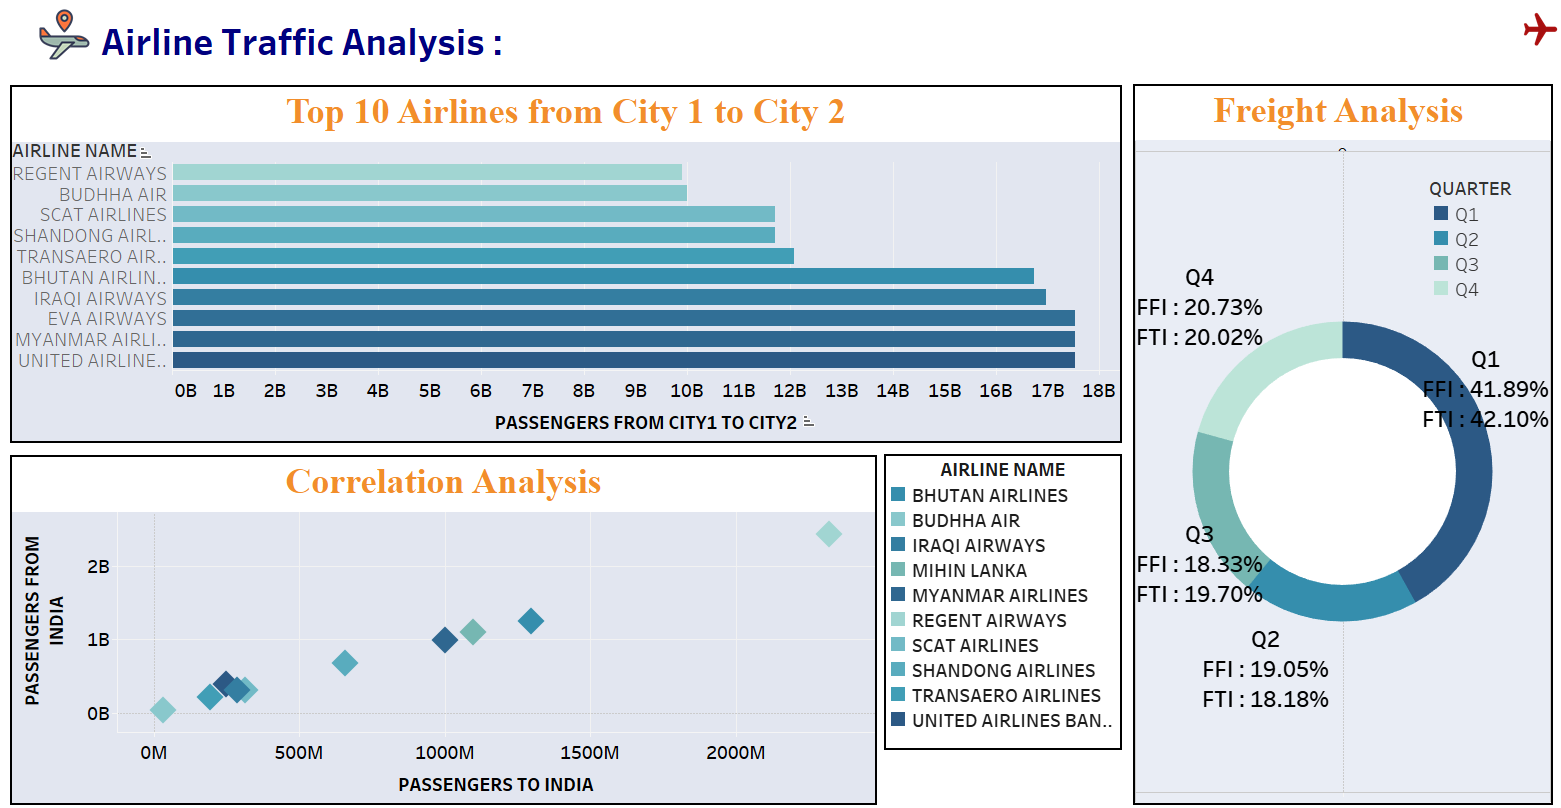

Layout of this report page (visuals, bound fields, positions):
{"tool":"tableau","page":{"name":"Airline Traffic Analysis Dashboard 1","canvas":[1000,1000],"units":"permille","ordinal":0},"visuals":[{"type":"dashboard-object","box":[945.8,8.6,36.2,68.5]},{"type":"image","param":"C:/Users/Shruti/Downloads/airplane.png","box":[27.4,14.7,54.9,68.5]},{"type":"text","box":[65.5,26.9,256.2,59.9]},{"type":"worksheet","title":"Freight Analysis :","mark":"Pie","cols":["Calculation_753227053780594689","Calculation_753227053780688899"],"box":[711.4,110,261.9,881.4]},{"type":"worksheet","title":"Top 10 Airline from City1 to City2 :","mark":"Automatic","rows":["AIRLINE NAME"],"cols":["PASSENGERS FROM CITY1 TO CITY2"],"box":[11.2,111.2,693.3,437.7]},{"type":"legend","title":"Freight Analysis :","param":"[federated.1ru3y5c15001as1cl7j0p1n24gp6].[none:QUARTER:nk]","box":[895.9,221.3,54.9,154]},{"type":"legend","title":"Correlation Analysis : ","param":"[federated.1ru3y5c15001as1cl7j0p1n24gp6].[none:AIRLINE NAME:nk]","box":[556.1,562.4,148.4,361.9]},{"type":"worksheet","title":"Correlation Analysis : ","mark":"Automatic","rows":["PASSENGERS FROM INDIA"],"cols":["PASSENGERS TO INDIA"],"box":[11.2,563.6,540.5,427.9]}]}

Visuals, with their boxes on the dashboard's canvas, which has no fixed pixel size, in thousandths of its width and height (x1, y1, x2, y2). These are canvas units, not pixel positions in the 1561x808 screenshot, which may show the page scaled, cropped or inside an application window:
dashboard-object: box=[946, 9, 982, 77]
image: box=[27, 15, 82, 83]
text: box=[66, 27, 322, 87]
"Freight Analysis :" worksheet (Pie marks): box=[711, 110, 973, 991]
"Top 10 Airline from City1 to City2 :" worksheet: box=[11, 111, 704, 549]
"Freight Analysis :" legend: box=[896, 221, 951, 375]
"Correlation Analysis : " legend: box=[556, 562, 704, 924]
"Correlation Analysis : " worksheet: box=[11, 564, 552, 992]
